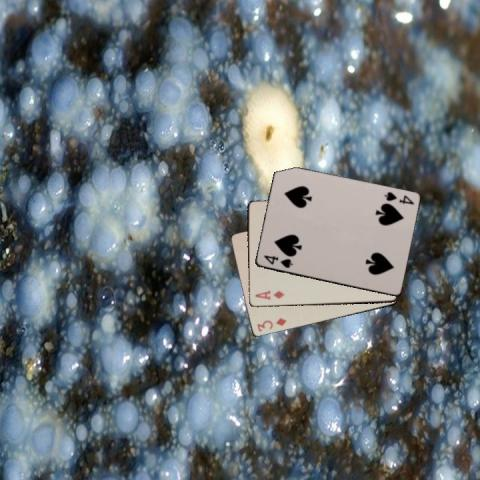3d: (254, 316, 288, 334)
4s: (260, 252, 294, 269), (382, 189, 416, 206)
Ad: (252, 288, 285, 301)
